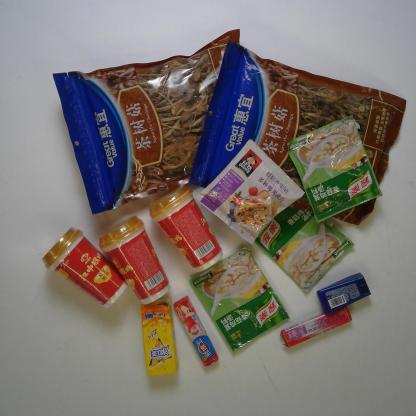Candy: (278, 301, 356, 352), (171, 298, 222, 370)
Dried Food: (198, 39, 409, 229), (54, 29, 256, 214)
Drink: (134, 299, 180, 379)
Instant Drink: (198, 139, 304, 251), (99, 215, 179, 314), (41, 224, 128, 312), (154, 186, 224, 270)
Personal Hygiene: (314, 270, 375, 317)
Seasoner: (184, 242, 284, 357), (286, 115, 384, 222), (256, 199, 352, 292)
